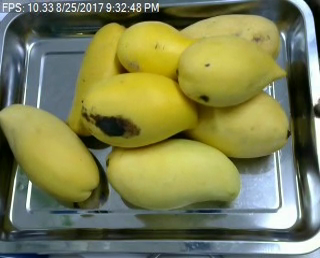Mango: (103, 137, 240, 211), (0, 103, 98, 201), (80, 72, 197, 147), (65, 22, 133, 136), (176, 36, 284, 106), (179, 90, 289, 158), (178, 14, 279, 63), (119, 21, 196, 76)
